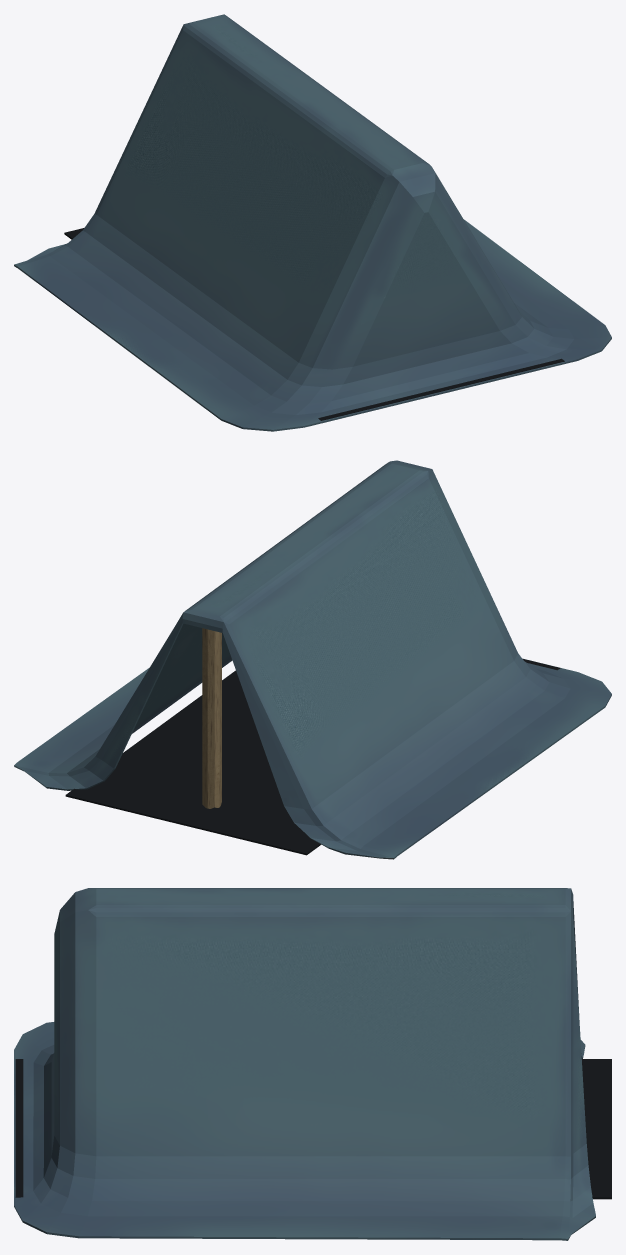
The model's file is tent-1.glb.
3 views of the same model, one above another, from view 1: azimuth 30°, elevation 25°; view 2: azimuth 150°, elevation 25°; view 3: azimuth 270°, elevation 25° (orthographic). The views are drawn at different scales.
Parts seen in each view (by area): view 1: tent; view 2: tent; view 3: tent.
Part boxes in pixels (<box>): tent: <box>14,14,611,431</box>; tent: <box>14,460,611,859</box>; tent: <box>14,888,611,1240</box>.
Bounding box in the file's own units: 4.71 × 2.37 × 5.42.
Materials: 3 (2 with a texture image).
